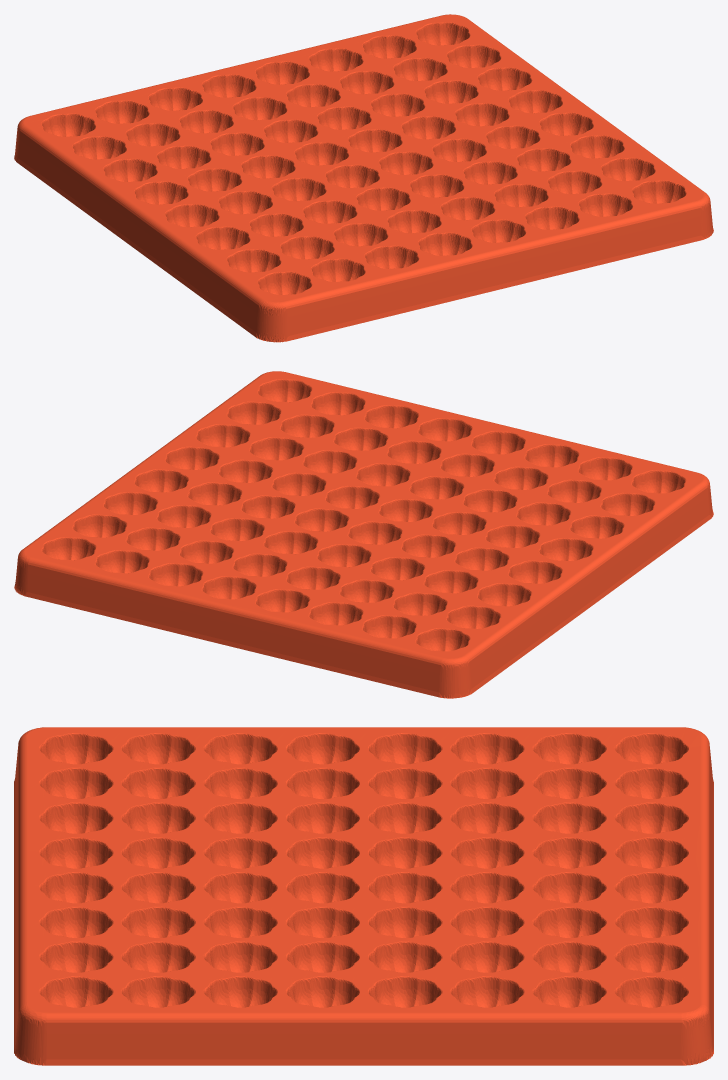
The model's file is mold.glb.
The picture shows the model from 3 angles, top to bottom: view 1: azimuth 30°, elevation 25°; view 2: azimuth 150°, elevation 25°; view 3: azimuth 270°, elevation 25°; orthographic projection. The views are drawn at different scales.
Visible parts, largest first — view 1: geometry_0; view 2: geometry_0; view 3: geometry_0.
Boxes of the visible parts, x1,y1,x2,y2 form: geometry_0: (14, 14, 713, 342); geometry_0: (14, 371, 713, 698); geometry_0: (14, 727, 713, 1065).
Size of the model in its own units: 0.1886 by 0.0142 by 0.1886.
